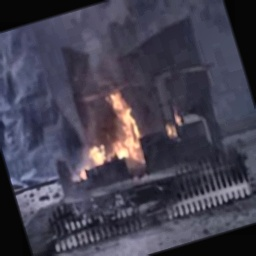fire: (67, 83, 154, 177)
